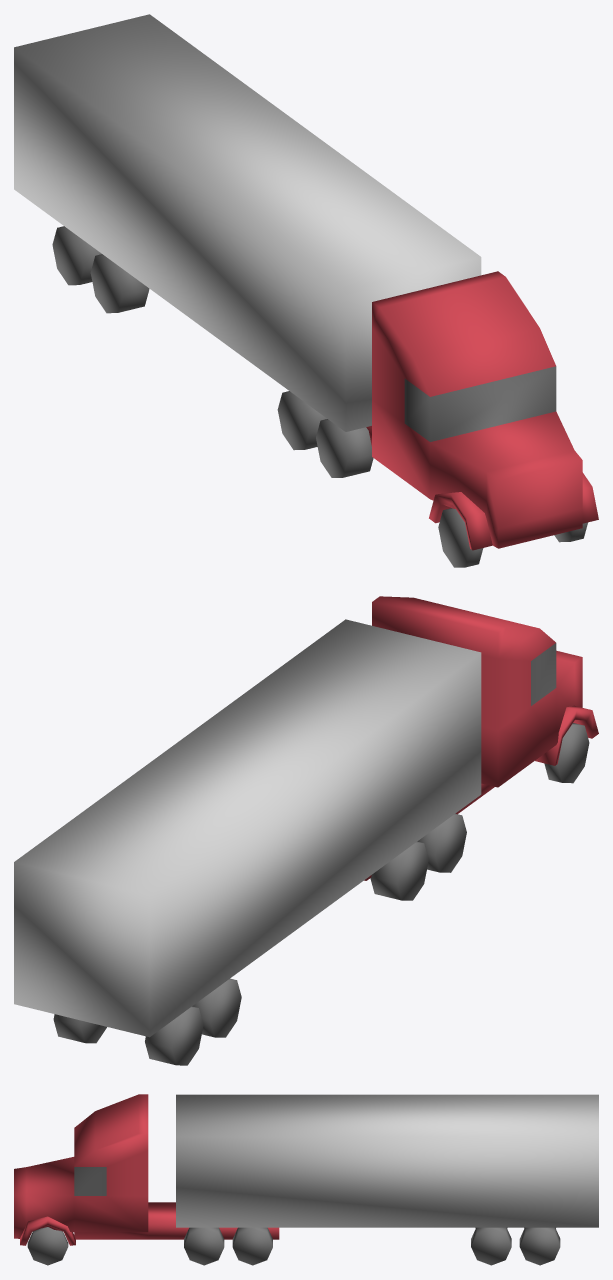
The model's file is semi.glb.
3 views of the same model, one above another, from view 1: azimuth 30°, elevation 25°; view 2: azimuth 150°, elevation 25°; view 3: azimuth 270°, elevation 25° (orthographic). The views are drawn at different scales.
Visible parts, largest first — view 1: semi; view 2: semi; view 3: semi.
Boxes of the visible parts, box(x1,y1,x2,y2) form: semi: box(14, 14, 598, 567); semi: box(14, 596, 598, 1065); semi: box(14, 1094, 598, 1265).
Bounding box in the file's own units: 4 × 5.88 × 23.41.
